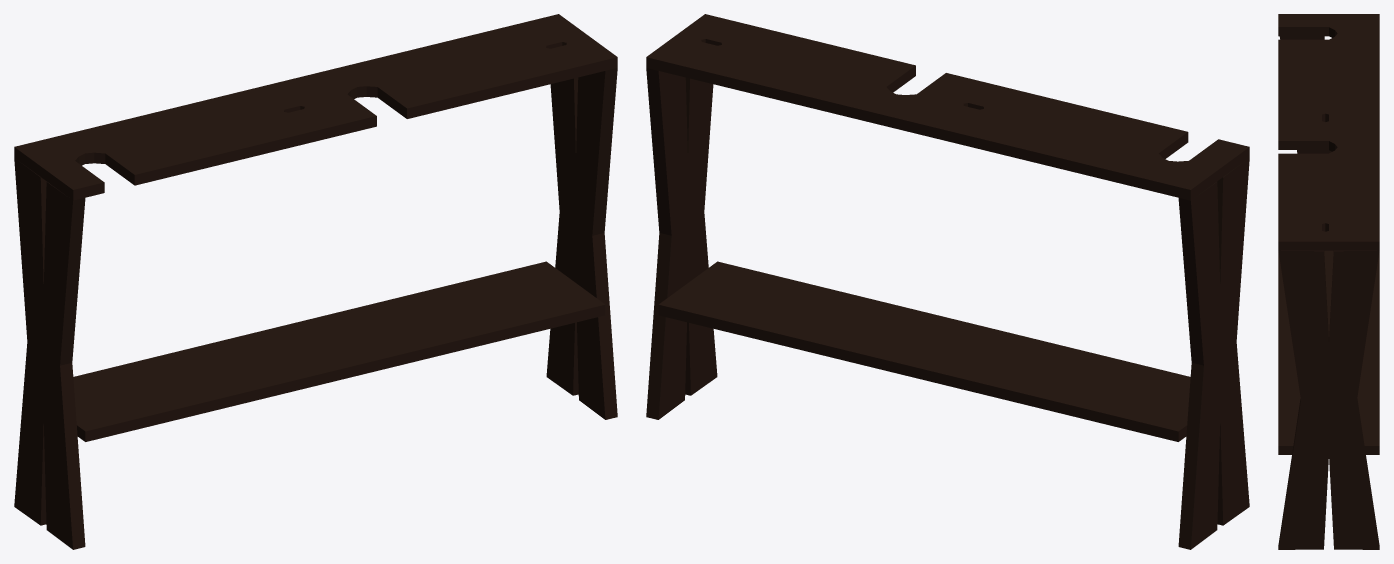
The model's file is Estante.fbx.
3 views of the same model, side by side, from view 1: azimuth 30°, elevation 25°; view 2: azimuth 150°, elevation 25°; view 3: azimuth 270°, elevation 25° (orthographic). The views are drawn at different scales.
Visible parts, largest first — view 1: Estante de arma; view 2: Estante de arma; view 3: Estante de arma.
Boxes of the visible parts, x1,y1,x2,y2 form: Estante de arma: [14, 14, 617, 549]; Estante de arma: [646, 14, 1249, 549]; Estante de arma: [1278, 14, 1379, 549].
Size of the model in its own units: 882 by 557 by 165.
